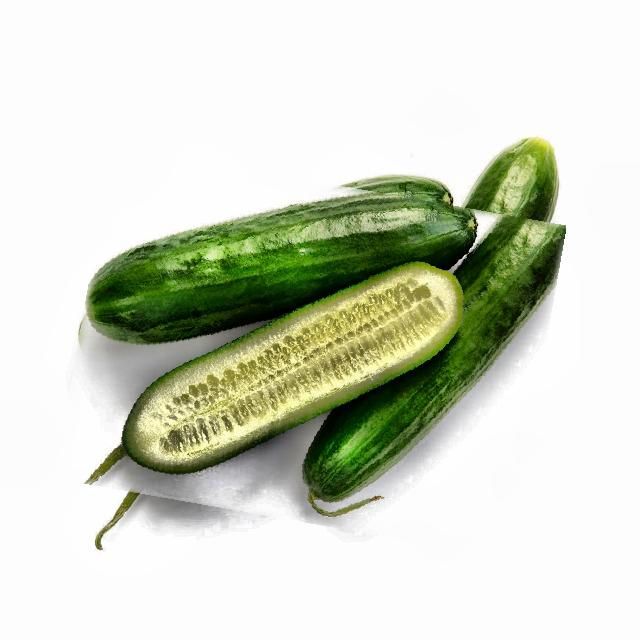cucumber: (67, 165, 554, 540)
